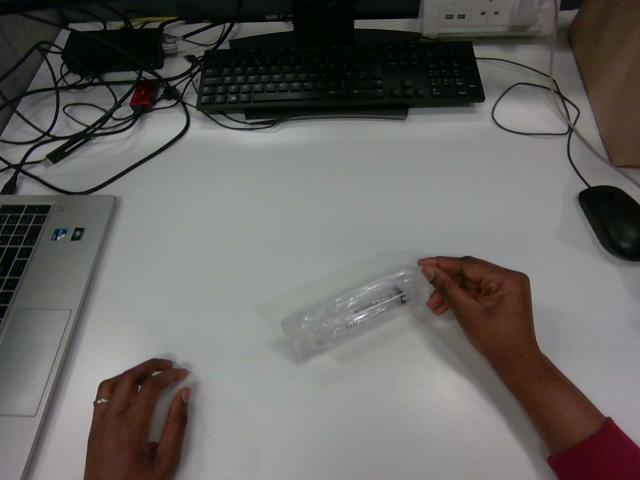syringe: (281, 268, 422, 361)
